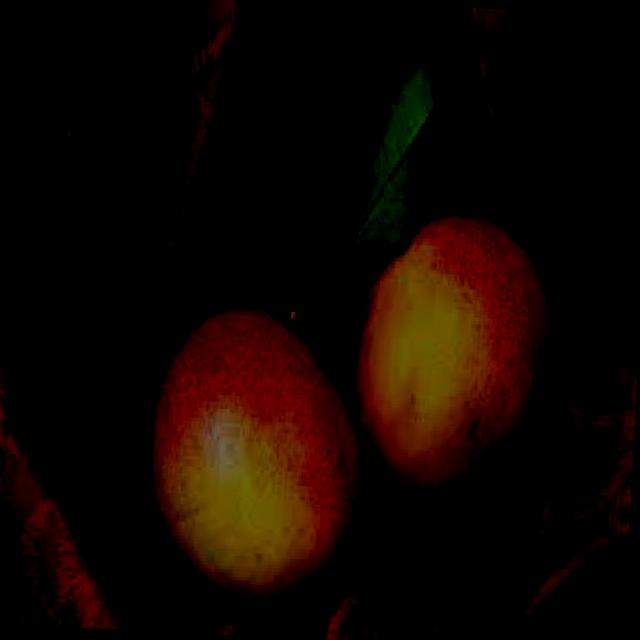Mango: (140, 298, 373, 614), (346, 204, 568, 528)
